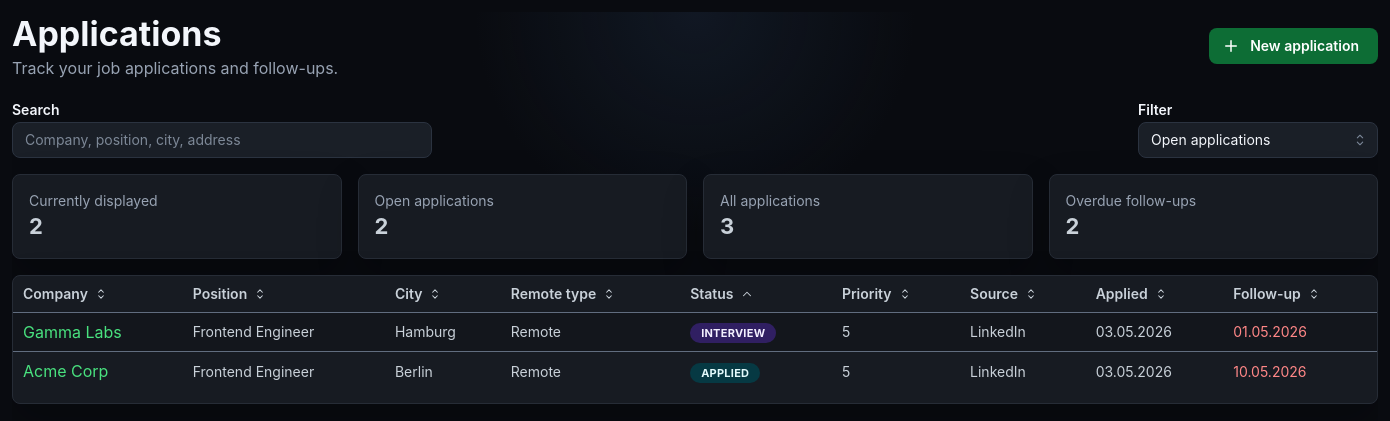
Test: ApplicationsPage › applies the default open filter, search, and updates the stats
Check: the link "Acme Corp" is shown, box [23,361,108,381]
Check: the heading "2" below "Open applications" is shown, box [374,213,388,239]
Type "gamma" into the field labelled "Search" at x=222, y=140, box [12,122,432,158]
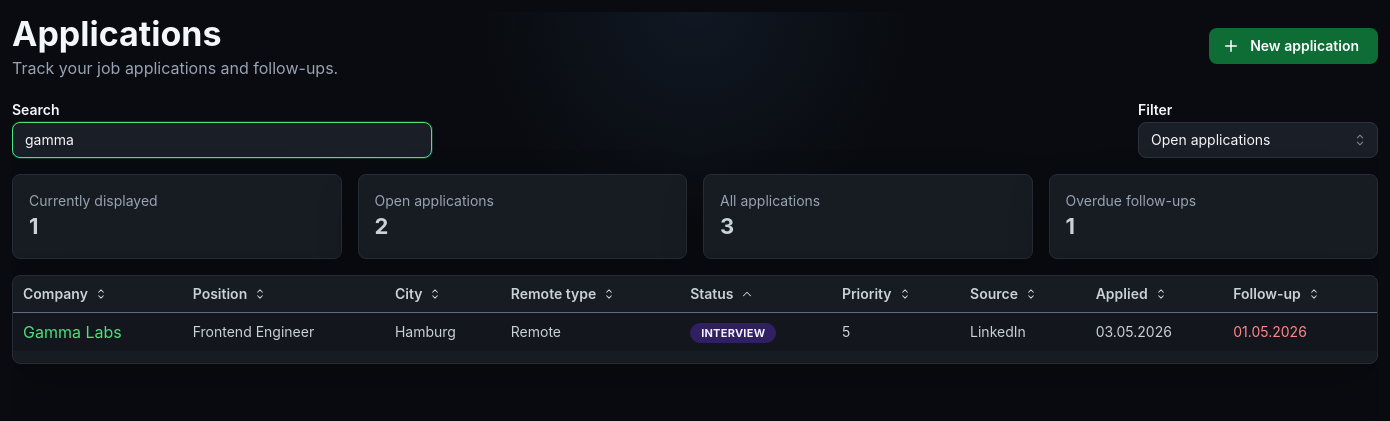
Check: the link "Gamma Labs" is shown, box [23,322,122,342]
Check: the link "Acme Corp" is gone
Check: the heading "1" below "Overdue follow-ups" is shown, box [1066,213,1075,239]
